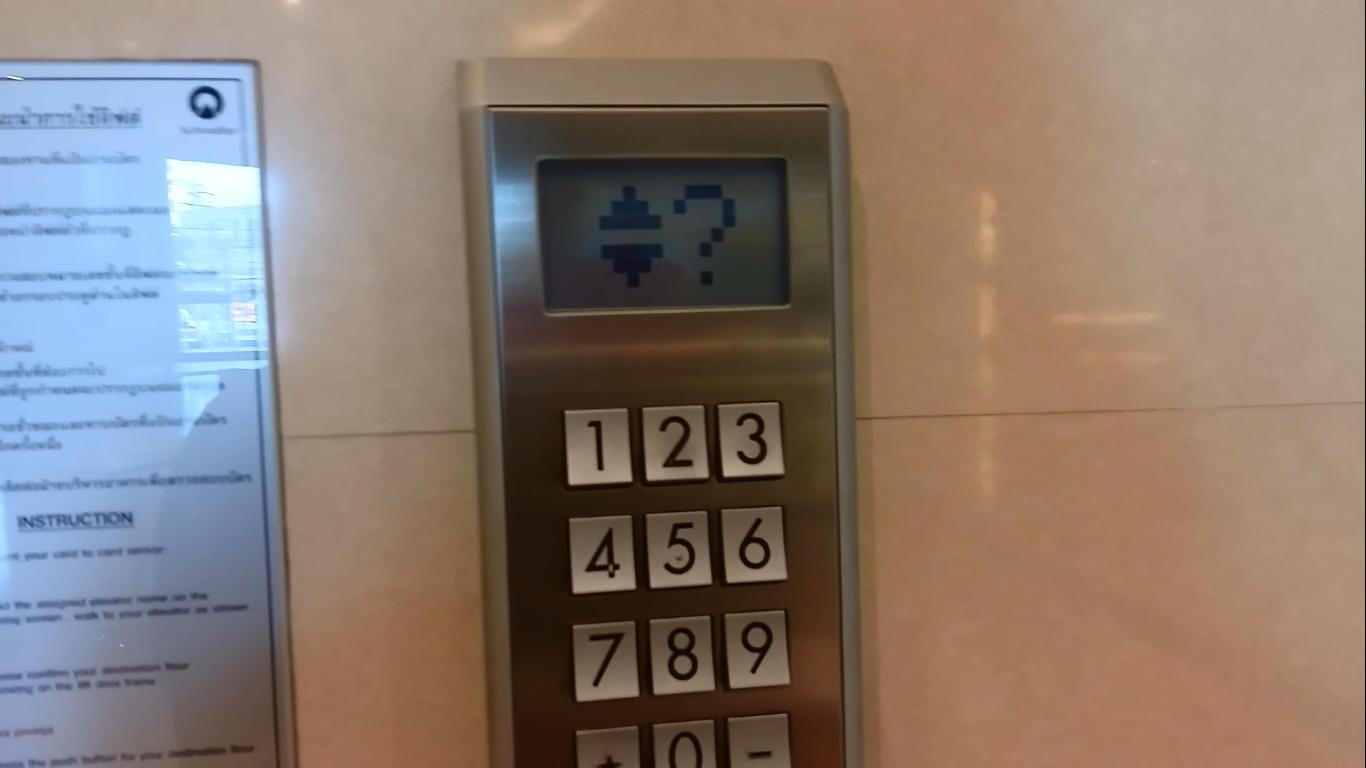-: (724, 707, 794, 768)
1: (558, 402, 636, 491)
2: (637, 400, 713, 487)
3: (711, 396, 790, 484)
4: (562, 510, 640, 597)
5: (641, 506, 717, 591)
6: (716, 502, 791, 589)
7: (567, 616, 645, 706)
8: (646, 609, 719, 700)
9: (719, 605, 795, 694)
led: (529, 147, 799, 322)
